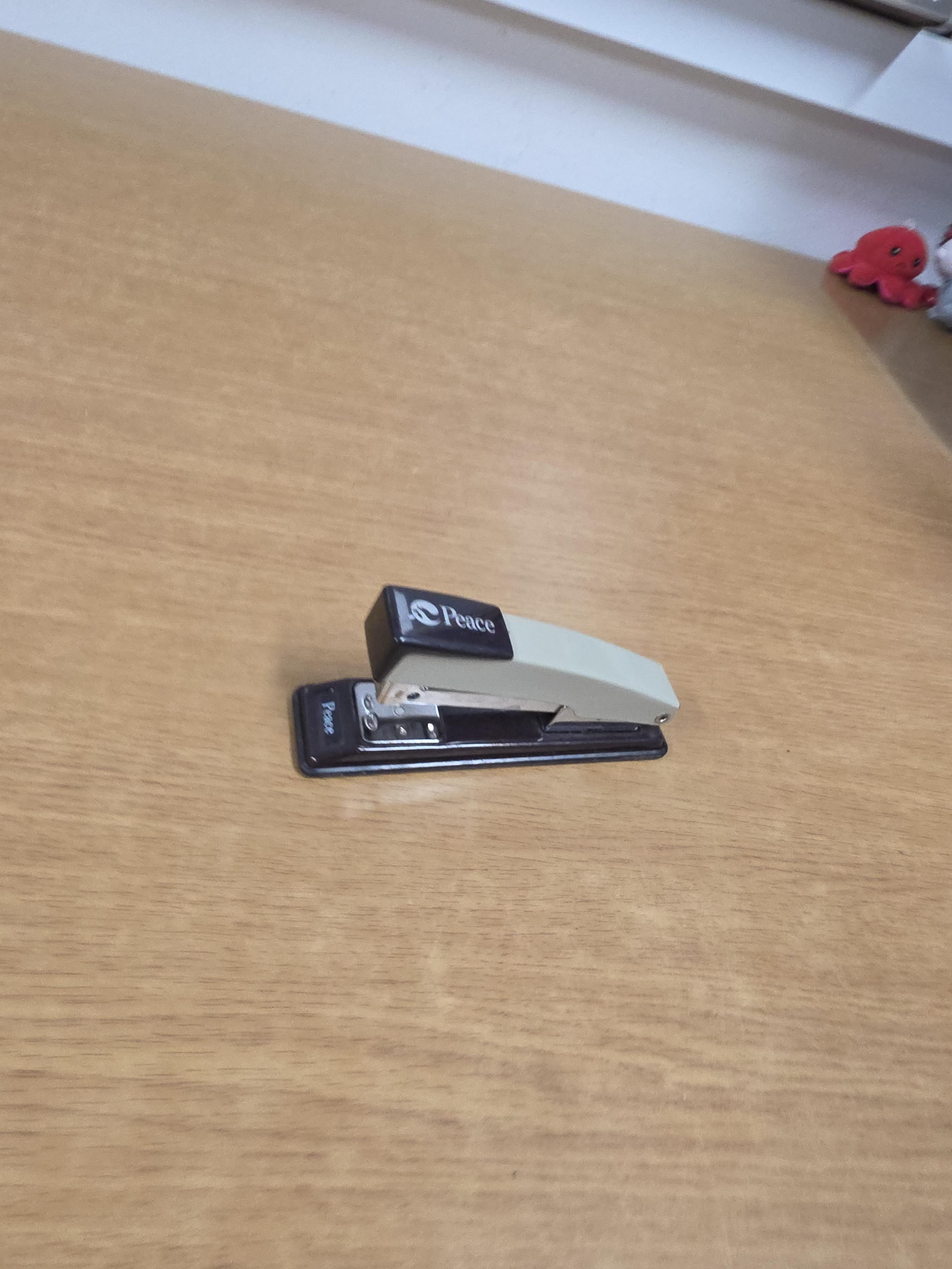stapler: (289, 584, 680, 779)
